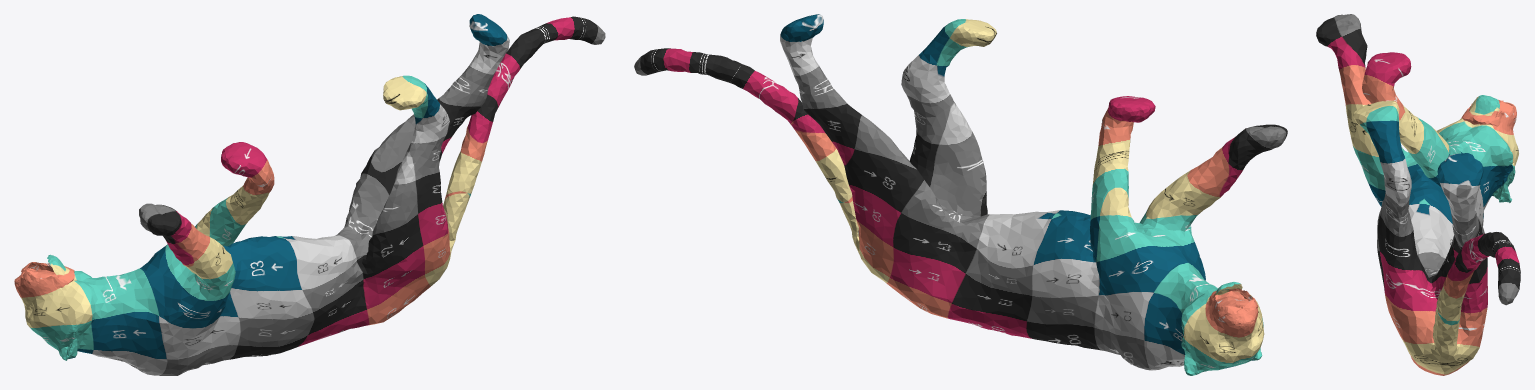
Rendered from horse_04-cougar_02.obj.
3 views of the same model, side by side, from view 1: azimuth 30°, elevation 25°; view 2: azimuth 150°, elevation 25°; view 3: azimuth 270°, elevation 25° (orthographic). The views are drawn at different scales.
Parts seen in each view (by area): view 1: horse_04-cougar_02_export; view 2: horse_04-cougar_02_export; view 3: horse_04-cougar_02_export.
Part boxes in pixels (bbox=[...]): horse_04-cougar_02_export: bbox=[14, 14, 605, 375]; horse_04-cougar_02_export: bbox=[634, 14, 1287, 375]; horse_04-cougar_02_export: bbox=[1316, 14, 1520, 375].
Size of the model in its own units: 1.32 by 0.5767 by 0.3827.
